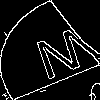W: (25, 24, 100, 89)
